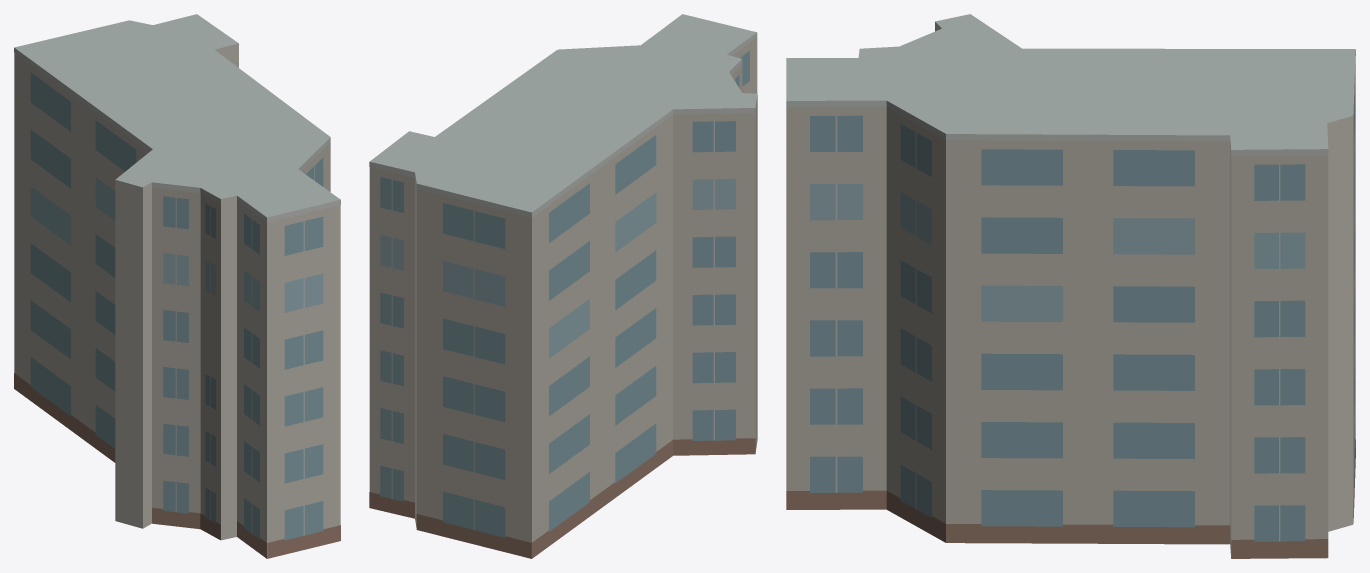
Rendered from survey-upis-32576282.glb.
The picture shows the model from 3 angles, left to right: view 1: azimuth 30°, elevation 25°; view 2: azimuth 150°, elevation 25°; view 3: azimuth 270°, elevation 25°; orthographic projection. The views are drawn at different scales.
Visible parts, largest first — view 1: survey-upis-32576282.tmp; view 2: survey-upis-32576282.tmp; view 3: survey-upis-32576282.tmp.
Part boxes in pixels (x1,y1,x2,y2): survey-upis-32576282.tmp: [14, 14, 340, 558]; survey-upis-32576282.tmp: [369, 14, 757, 558]; survey-upis-32576282.tmp: [786, 14, 1355, 558].
Size of the model in its own units: 11.27 by 15.8 by 19.95.
